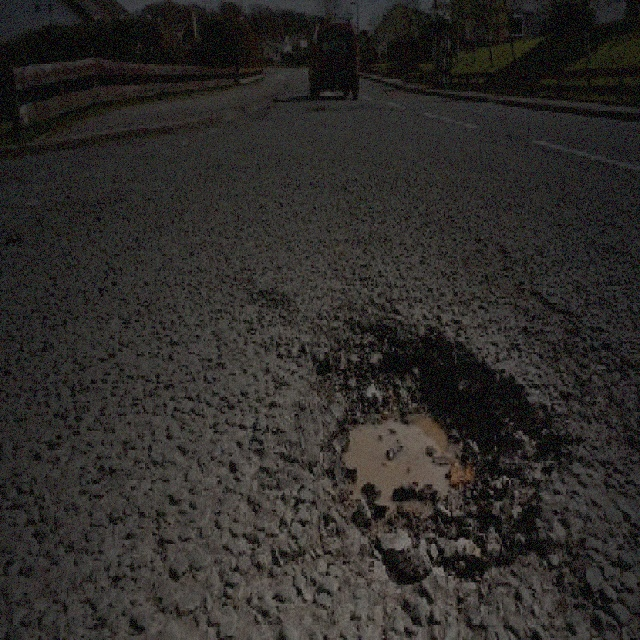pothole: (297, 314, 563, 595)
